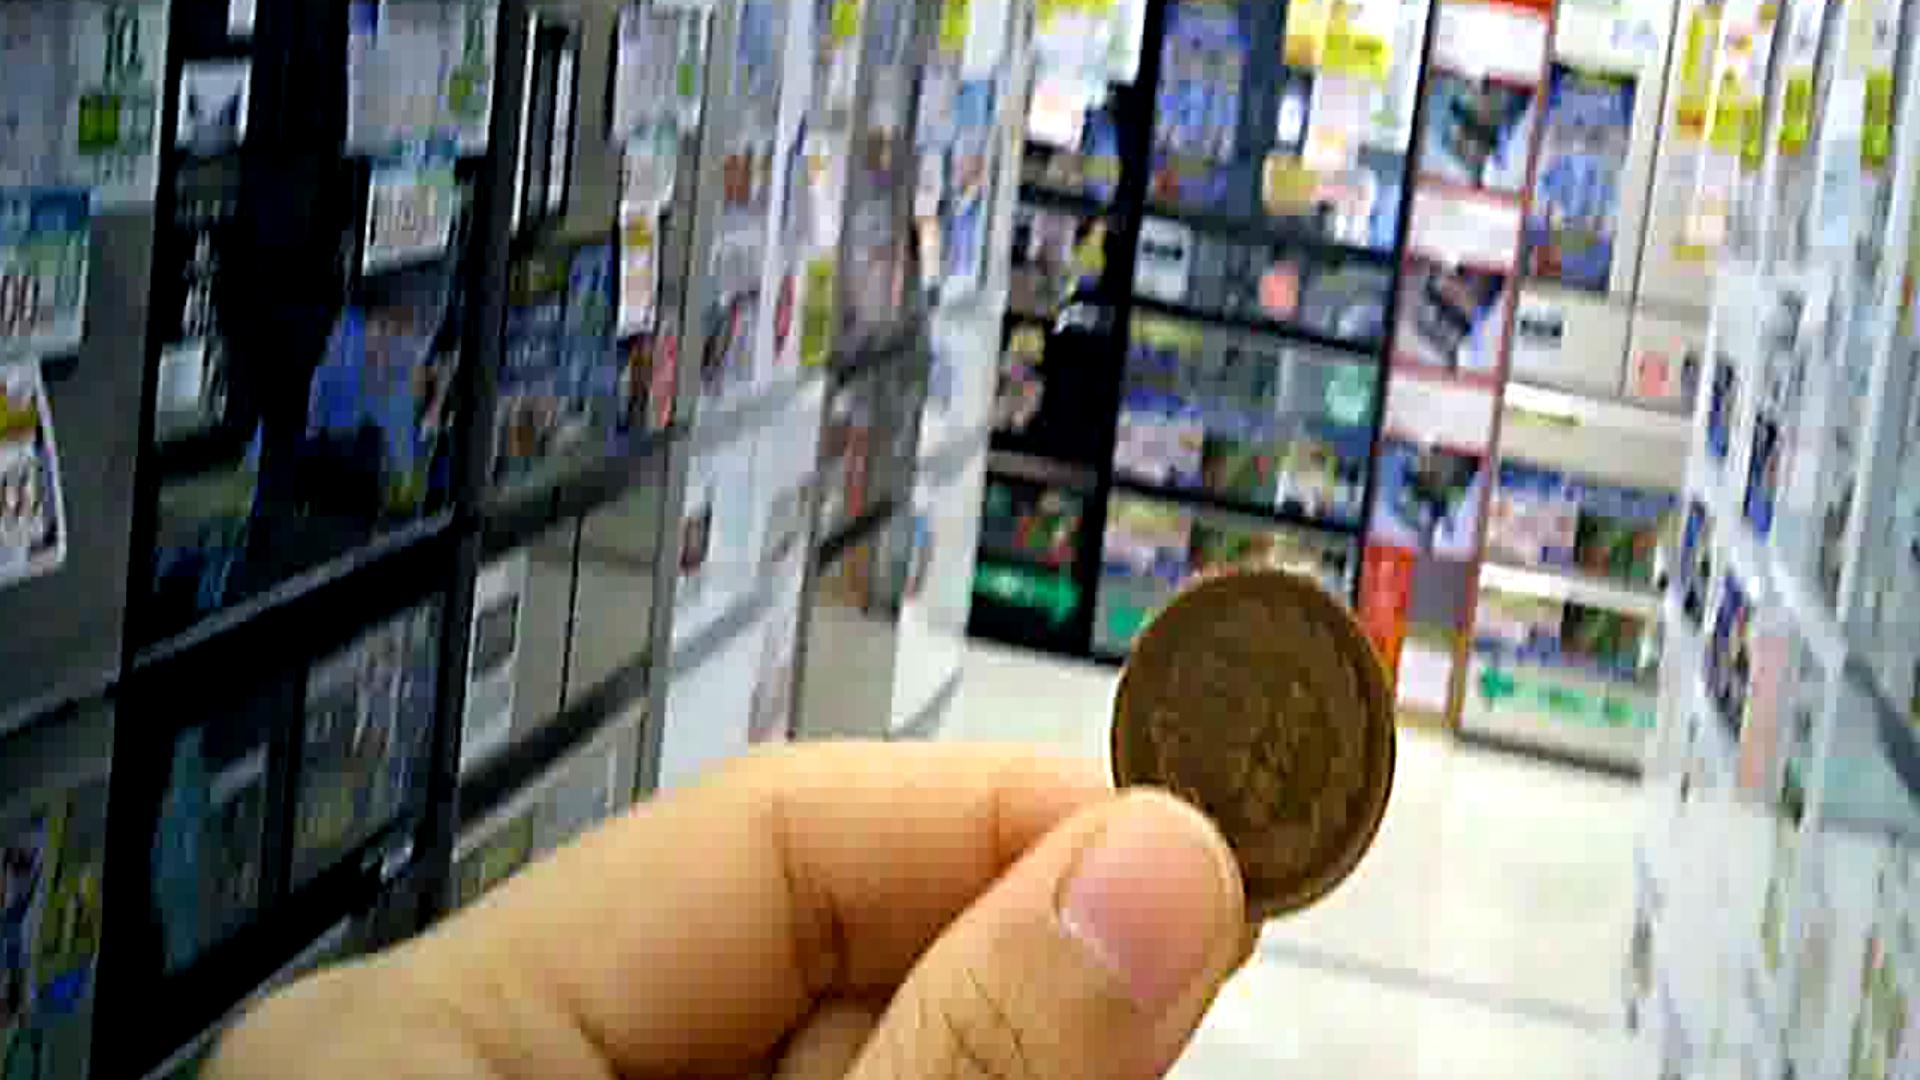10 Yen: (1095, 580, 1395, 916)
